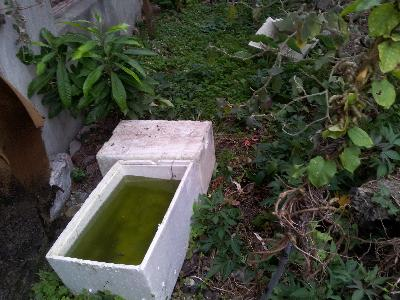styrofoam: (42, 158, 196, 298), (94, 118, 220, 196)
